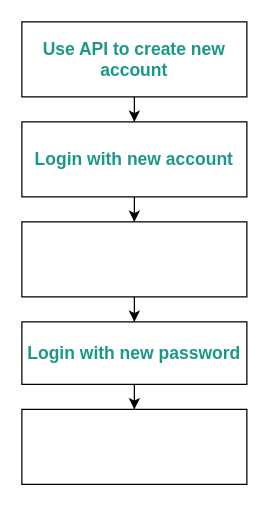
Image size: 269x506. Some labels were removed from this diagram. The centre of each missing label's shape, as x and y in pixels:
"Change password" belongs at point (134, 446).
"Change password at 1st time login" belongs at point (134, 259).
